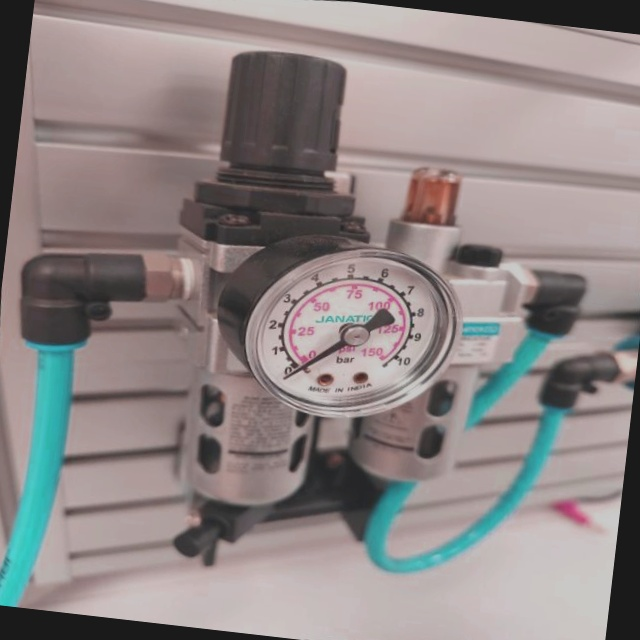FRL unit: (0, 0, 636, 630)
push button: (199, 211, 480, 440)
